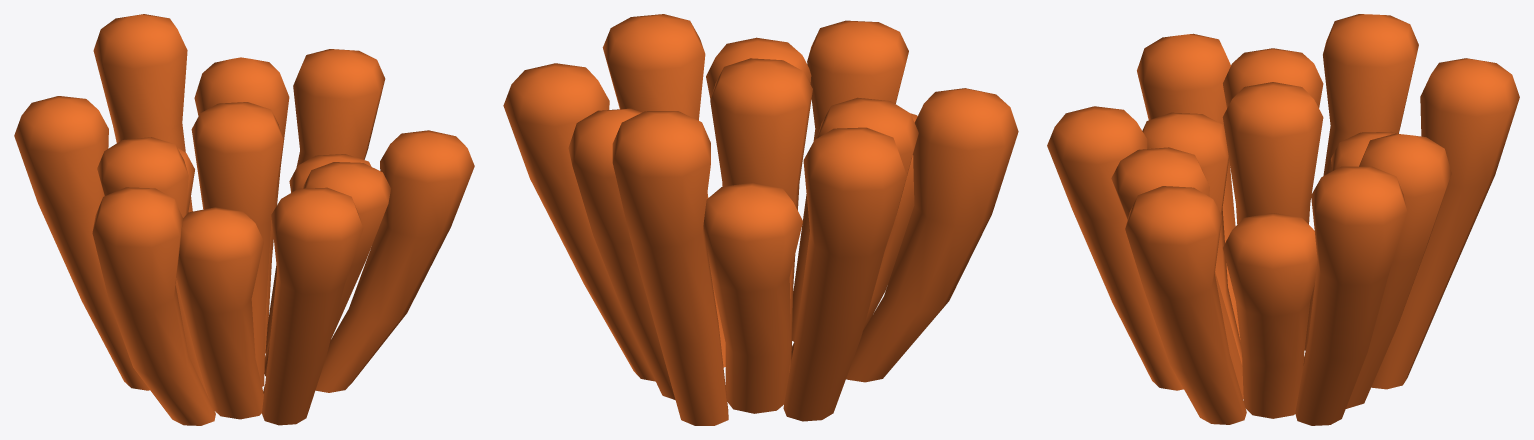
The model's file is Sea_plant_3.001.fbx.
3 views of the same model, side by side, from view 1: azimuth 30°, elevation 25°; view 2: azimuth 150°, elevation 25°; view 3: azimuth 270°, elevation 25° (orthographic). The views are drawn at different scales.
Parts seen in each view (by area): view 1: Sea_plant_3.001; view 2: Sea_plant_3.001; view 3: Sea_plant_3.001.
Part boxes in pixels (left/top/right/bottom): Sea_plant_3.001: left=14, top=14, right=474, bottom=425; Sea_plant_3.001: left=503, top=14, right=1018, bottom=425; Sea_plant_3.001: left=1047, top=14, right=1519, bottom=425.
Size of the model in its own units: 0.8989 by 0.6982 by 0.9557.
